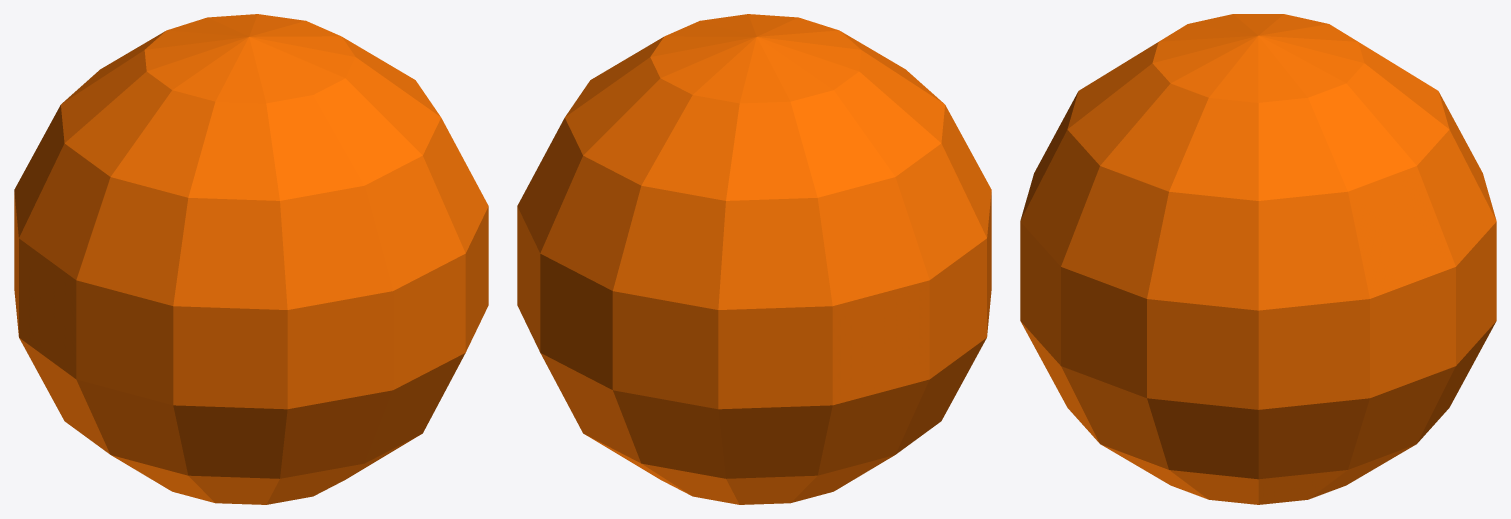
File: orange.glb
The picture shows the model from 3 angles, left to right: view 1: azimuth 30°, elevation 25°; view 2: azimuth 150°, elevation 25°; view 3: azimuth 270°, elevation 25°; orthographic projection.
Size of the model in its own units: 0.3074 by 0.32 by 0.3097.
